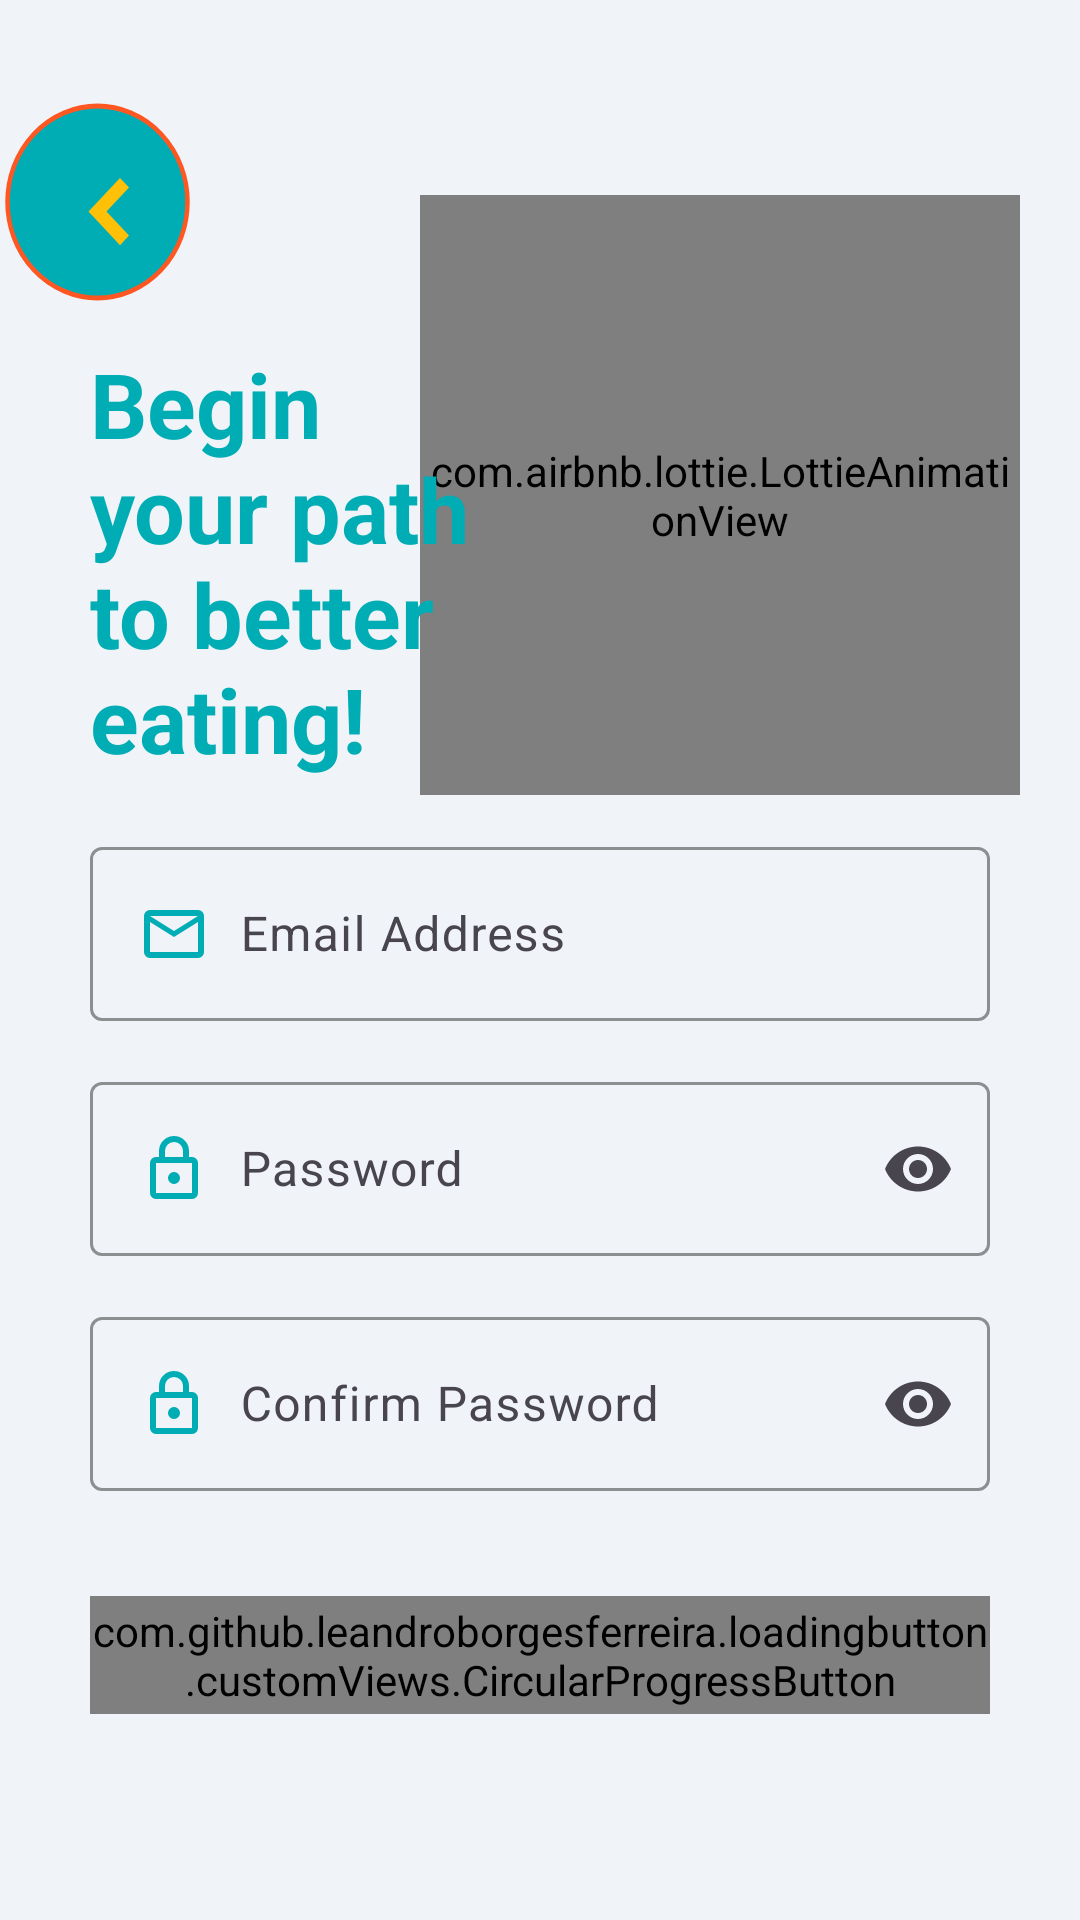

Named icons in this screenshot (1080 x 1920) and their centers, point (x, y):
back: point (97, 202)
